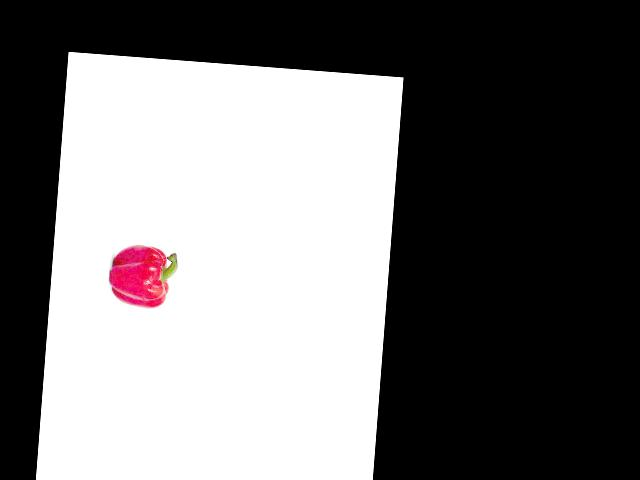bell_pepper: (107, 241, 180, 314)
